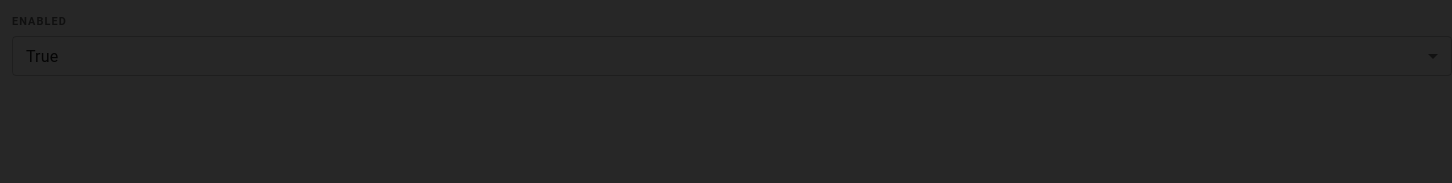
Scenario: CompactBooleanField › required booleans only offer False and True
Press the mouse on the dropdown at {"x": 42, "y": 56}, box [26,46,58,66]
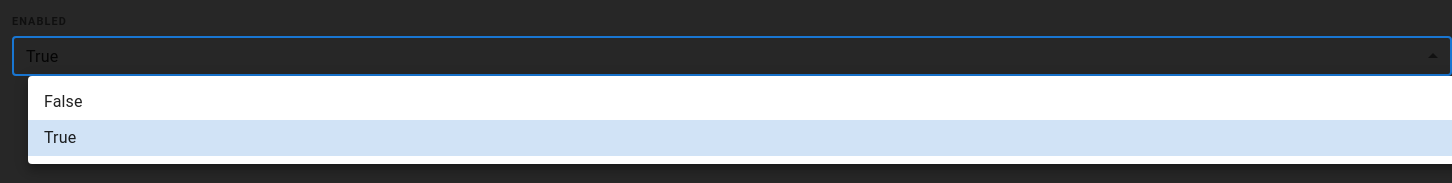
Now the option "False" is shown, box [44,92,83,111]
